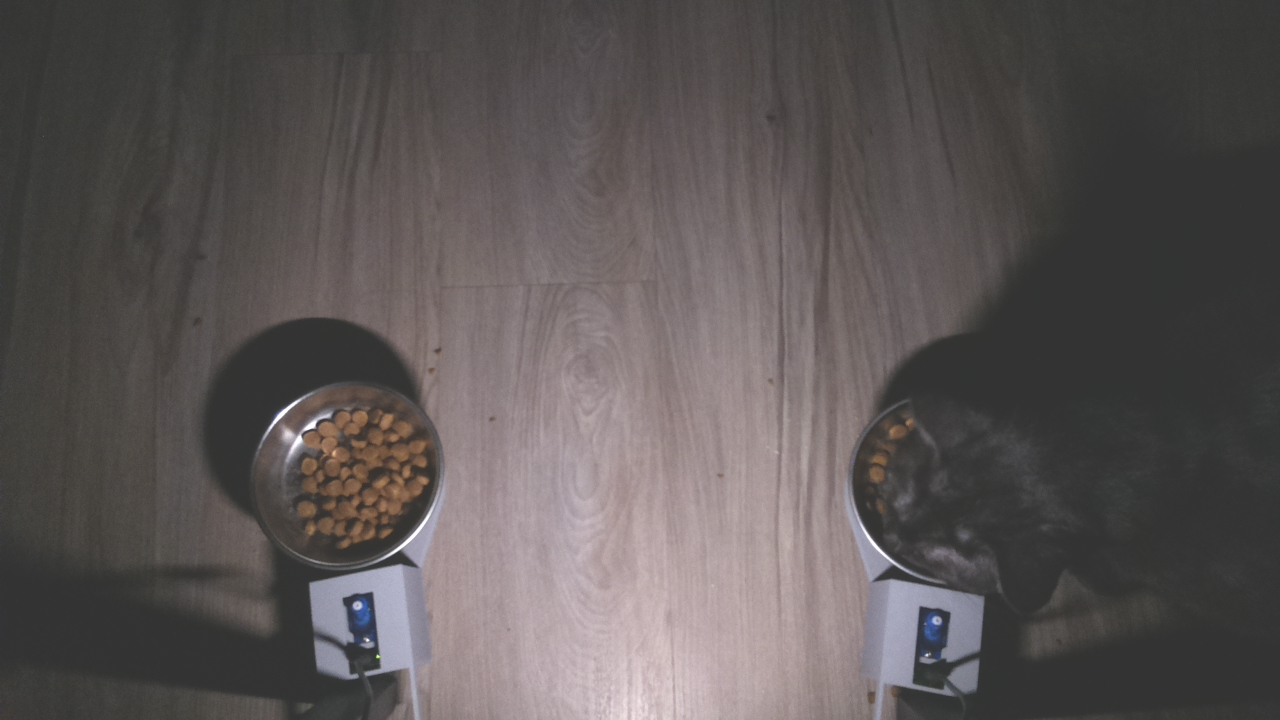open_bowl: (241, 369, 460, 572)
saki_eating: (857, 372, 1088, 623)
